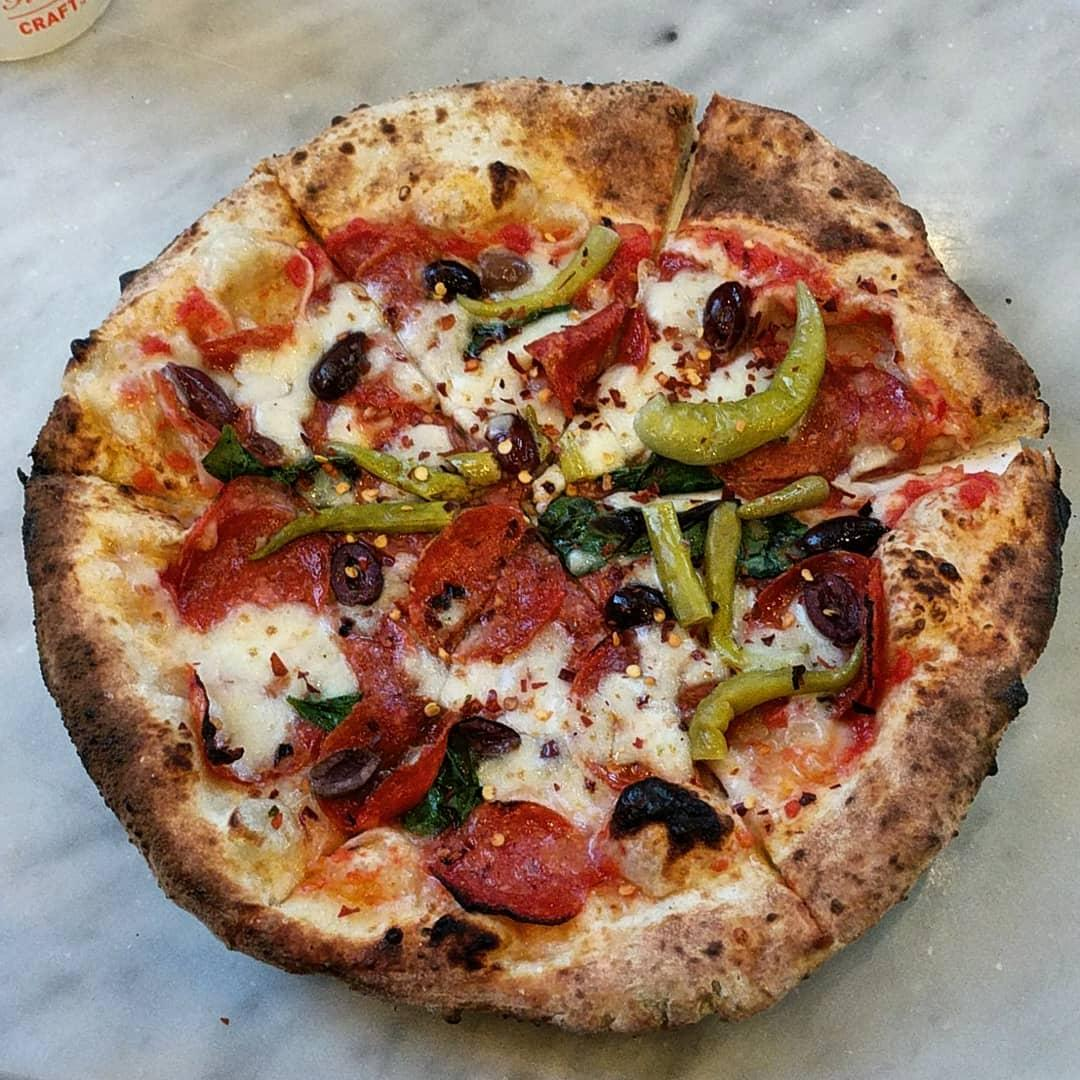Olives: (308, 330, 371, 404), (171, 363, 235, 425), (327, 537, 384, 606), (487, 411, 544, 476), (802, 513, 886, 555), (807, 579, 863, 640), (307, 746, 381, 792), (706, 282, 748, 358), (452, 717, 523, 759), (425, 257, 483, 301), (608, 585, 668, 627)
Pepperoni: (410, 504, 563, 662), (423, 796, 591, 927), (171, 506, 326, 640), (320, 694, 453, 827), (518, 301, 650, 408), (569, 632, 652, 786)
Peppers: (621, 274, 830, 471), (672, 630, 872, 773), (451, 219, 625, 323), (244, 498, 454, 560), (304, 435, 469, 508), (637, 487, 713, 629), (703, 498, 747, 665), (740, 471, 832, 519), (550, 412, 589, 484), (448, 441, 505, 489), (523, 409, 555, 473)
Pizza: (27, 83, 1067, 1032)
